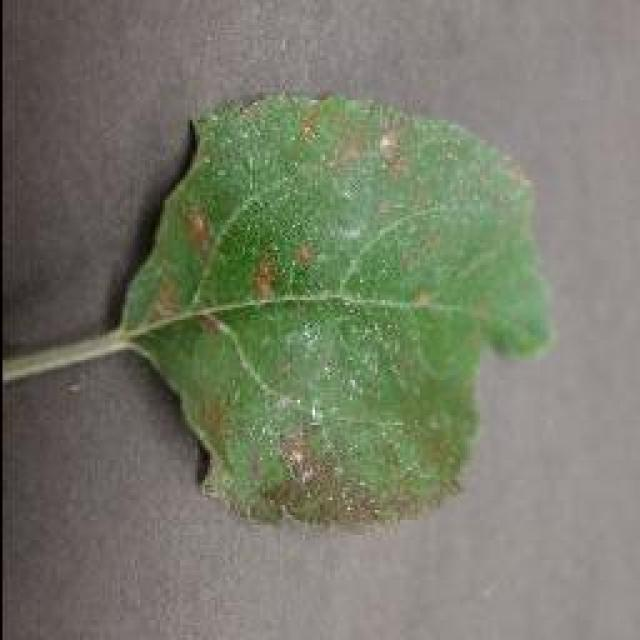apple healthy: (115, 88, 555, 528)
